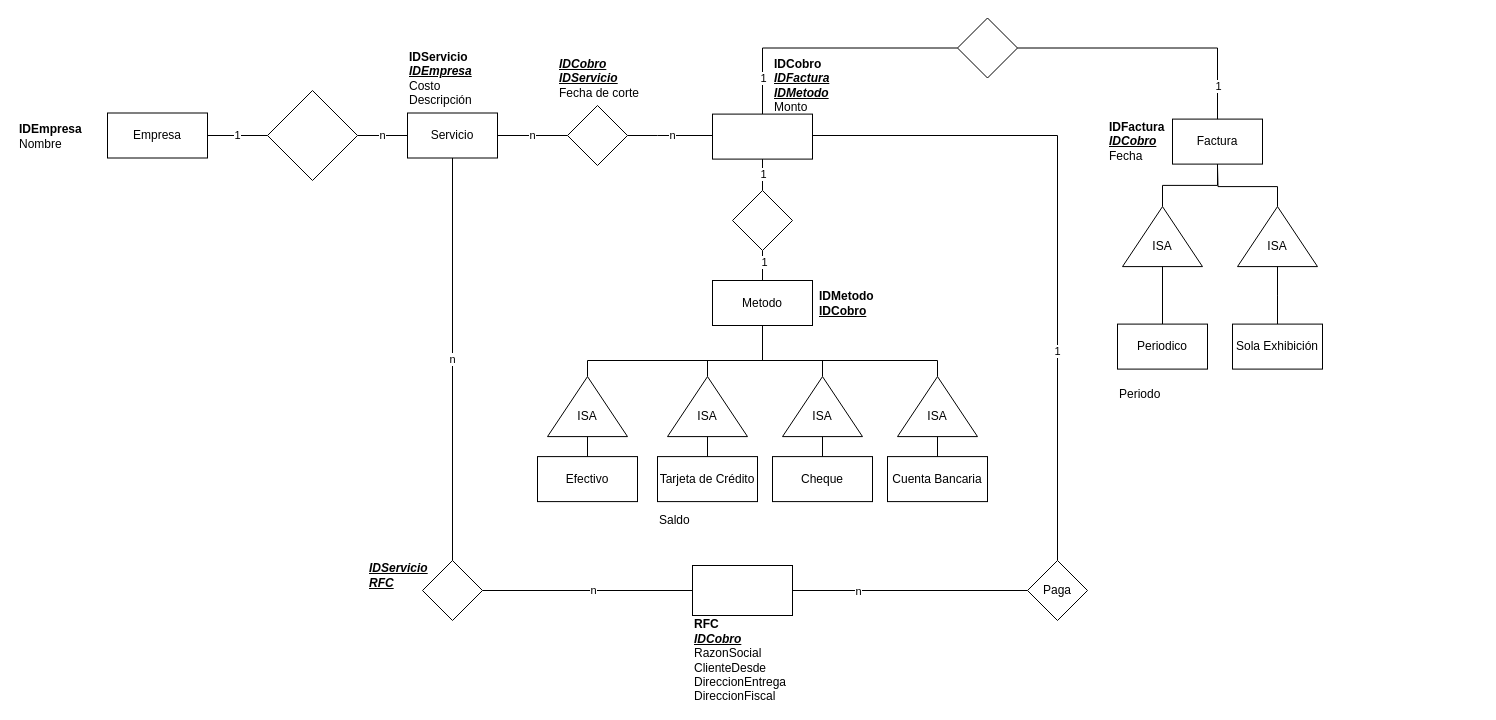
Image size: 1496x720. Some labels were removed from this diagram. Each missing label, with the centre of its shape:
"Circunscribe" belongs at (x=312, y=135).
"Cliente" belongs at (x=742, y=590).
"Cobro" belongs at (x=762, y=136).
"Genera" belongs at (x=987, y=47).
"Recibe" belongs at (x=452, y=590).
"Registra" belongs at (x=597, y=135).
"Requiere" belongs at (x=762, y=220).
